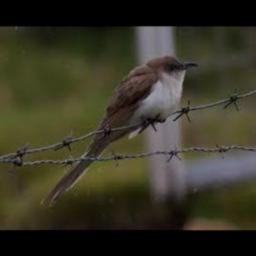Cuckoo: (39, 55, 198, 205)
